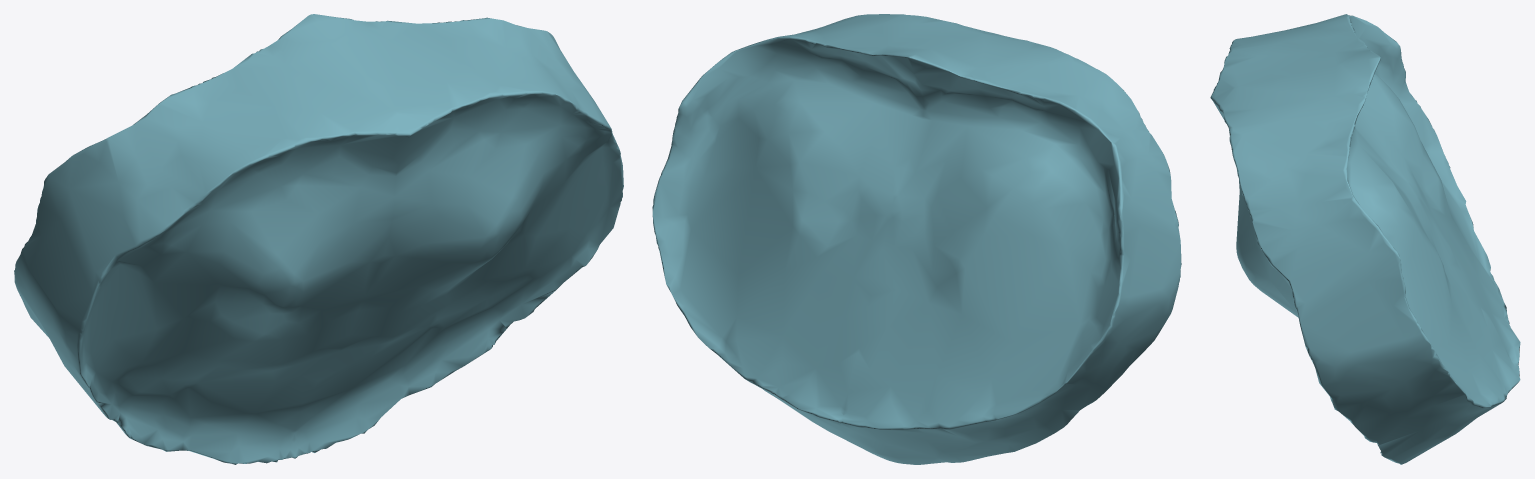
The picture shows the model from 3 angles, left to right: view 1: azimuth 30°, elevation 25°; view 2: azimuth 150°, elevation 25°; view 3: azimuth 270°, elevation 25°; orthographic projection. The views are drawn at different scales.
Visible parts, largest first — view 1: 腰5—骶1椎间盘; view 2: 腰5—骶1椎间盘; view 3: 腰5—骶1椎间盘.
Boxes of the visible parts, box(x1,y1,x2,y2) form: 腰5—骶1椎间盘: box(14, 14, 623, 464); 腰5—骶1椎间盘: box(652, 14, 1181, 464); 腰5—骶1椎间盘: box(1210, 14, 1520, 464).
Size of the model in its own units: 0.0747 by 0.0597 by 0.0432.
